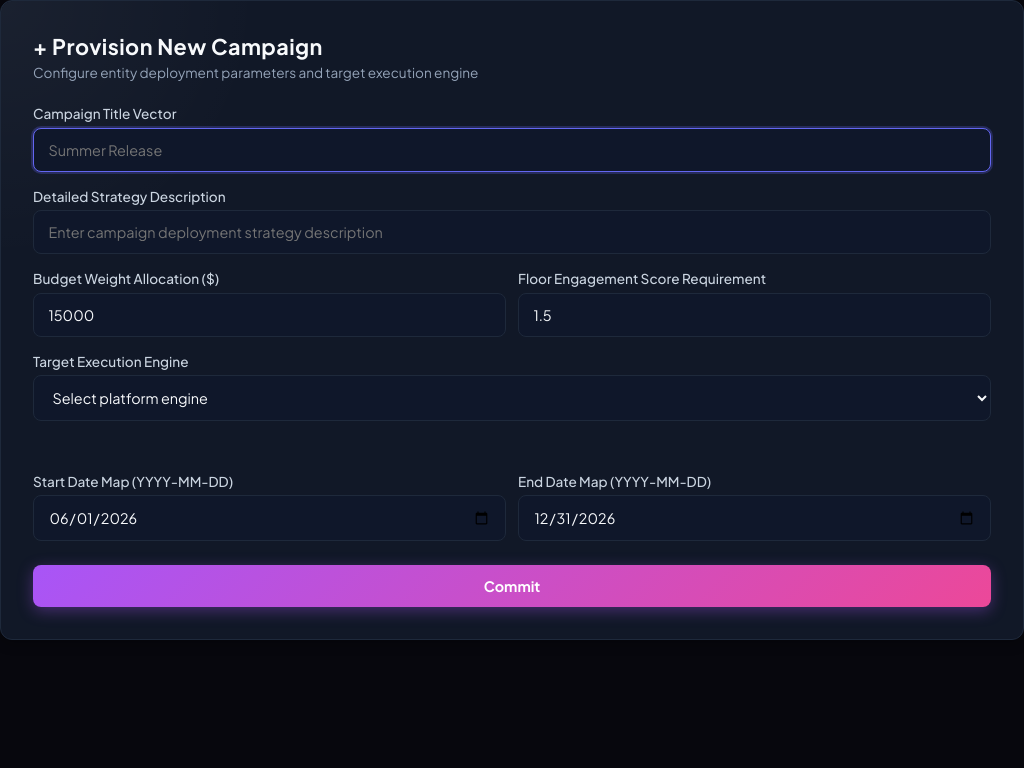
Test: Amypo Project Test Suite › T9 — useState: selecting from domain dropdown updates dependent UI
The image size is (1024, 768).
Select "YOUTUBE" in the dropdown named "platform" at [512, 398], box [33,375,991,421]
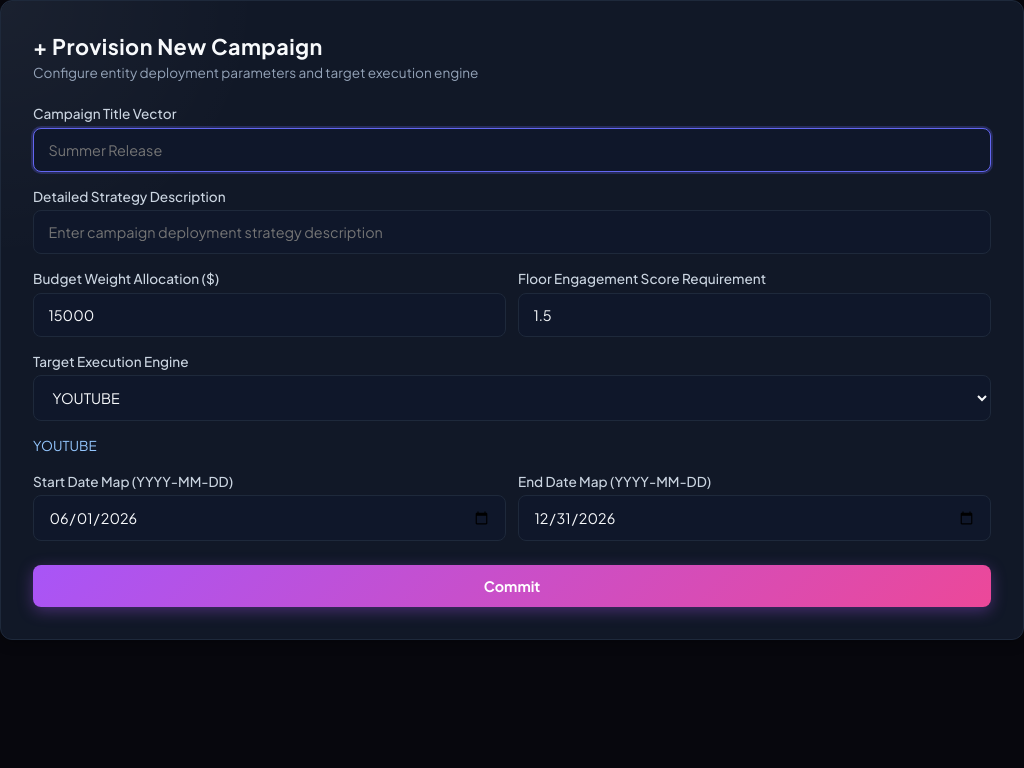
Now the text with test id "selected-platform" reads "YOUTUBE", box [33,437,97,454]
